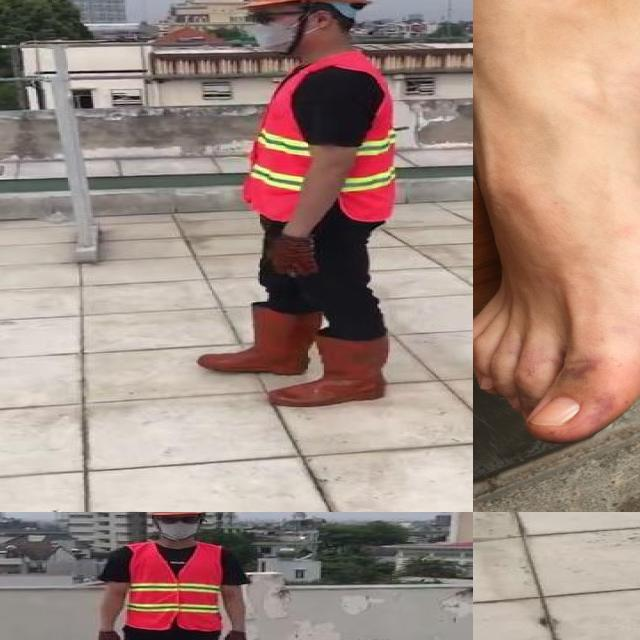Barefoots: (473, 0, 640, 440)
boots: (265, 337, 390, 409), (198, 309, 322, 374)
face_mask: (243, 10, 309, 52), (156, 514, 201, 538)
glasses: (242, 8, 292, 27), (156, 514, 200, 526)
hand_glove: (266, 233, 320, 278), (95, 630, 125, 640), (219, 630, 248, 640)
head_helmet: (148, 512, 207, 518)
person: (187, 0, 402, 413), (80, 512, 260, 640)
vest: (244, 59, 399, 222), (129, 541, 225, 632)
